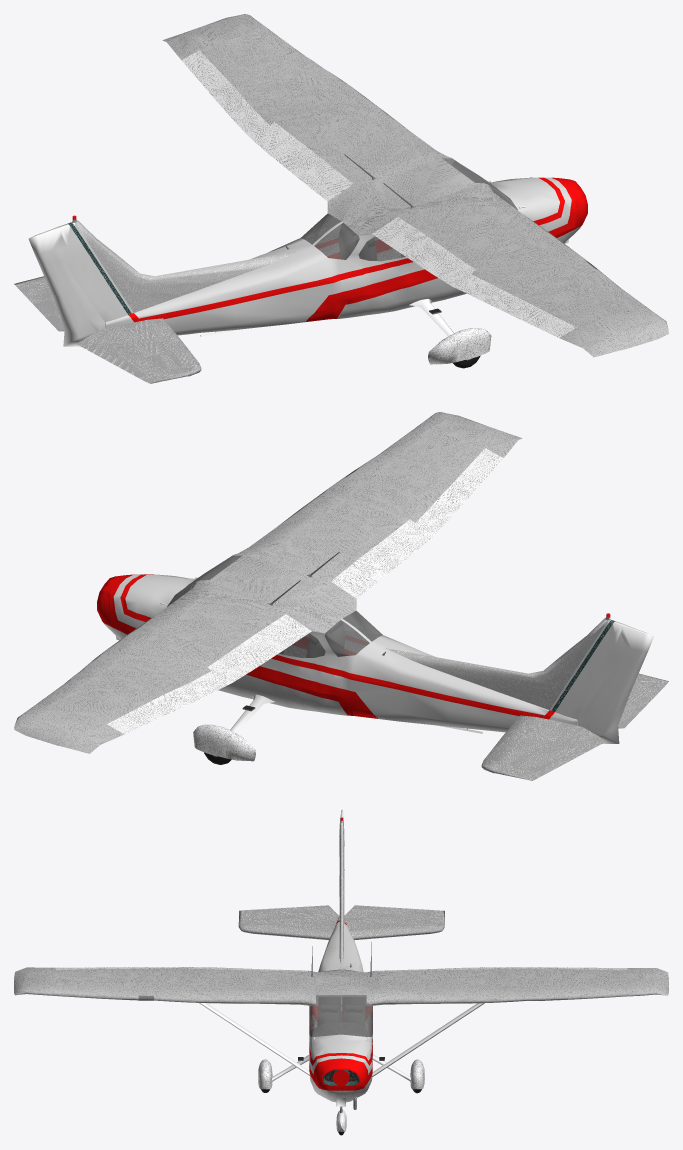
The model's file is cessna_body.dae.
3 views of the same model, one above another, from view 1: azimuth 30°, elevation 25°; view 2: azimuth 150°, elevation 25°; view 3: azimuth 270°, elevation 25° (orthographic). The views are drawn at different scales.
Parts seen in each view (by area): view 1: group_9 (×9), group_2 (×2), group_4, Group_15, group_3, group_10, group_15; view 2: group_9 (×9), group_2 (×2), group_3, Group_15, group_4, group_11, group_17; view 3: group_9 (×5), group_3, group_4, group_13, ske2A3 (×2), group_2, group_7.
Part boxes in pixels (box(x1,y1,x2,y2)): group_9 (×9): box(105, 14, 668, 357); group_2 (×2): box(28, 220, 298, 346); group_4: box(76, 318, 201, 383); Group_15: box(428, 328, 491, 364); group_3: box(14, 276, 64, 331); group_10: box(314, 222, 359, 259); group_15: box(358, 236, 405, 261); group_9 (×9): box(14, 412, 577, 753); group_2 (×2): box(385, 618, 653, 743); group_3: box(481, 715, 606, 780); Group_15: box(193, 724, 255, 761); group_4: box(618, 673, 668, 728); group_11: box(325, 620, 369, 656); group_17: box(279, 633, 325, 657); group_9 (×5): box(14, 922, 668, 1102); group_3: box(344, 905, 444, 940); group_4: box(238, 905, 338, 939); group_13: box(309, 995, 372, 1036); ske2A3 (×2): box(199, 1003, 484, 1076); group_2: box(339, 823, 344, 966); group_7: box(309, 1022, 372, 1036).
Size of the model in its own units: 316 by 434 by 109.
